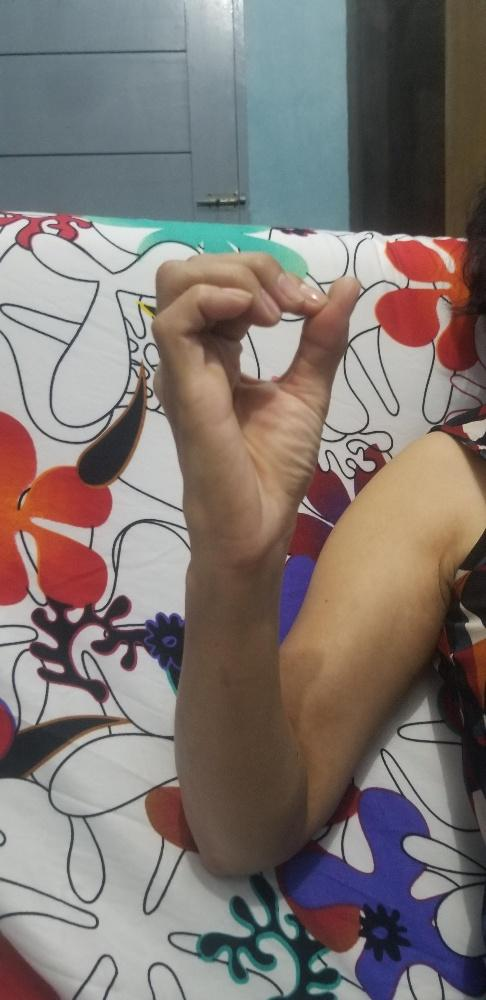o: (147, 249, 365, 572)
